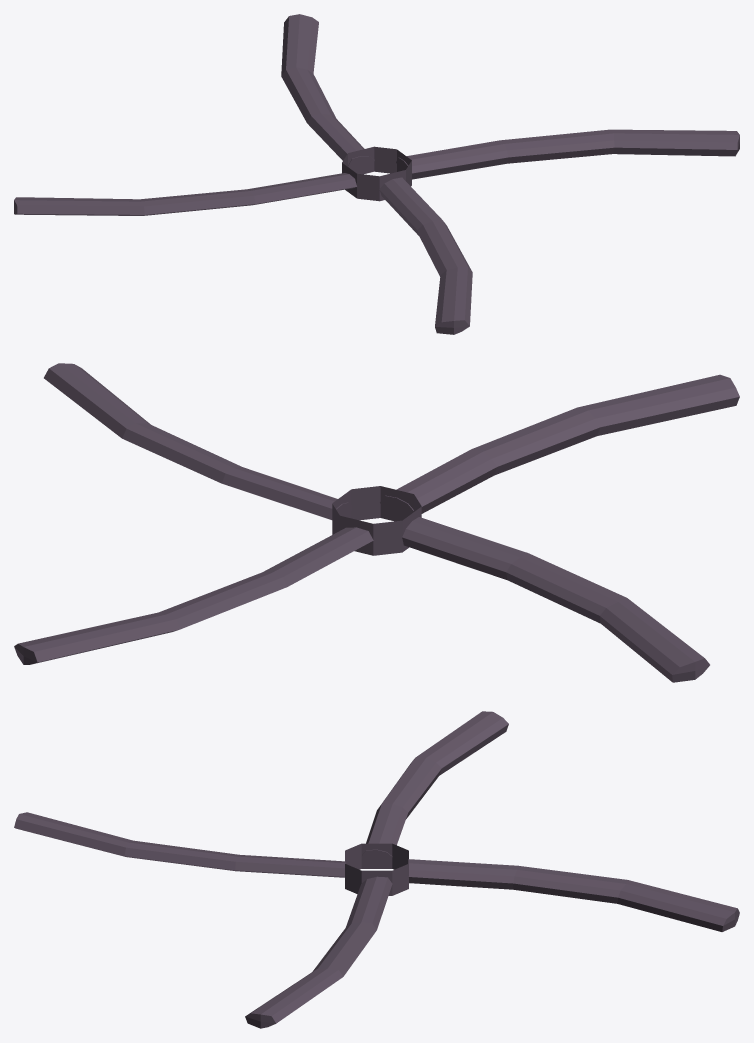
The model's file is Fan.fbx.
3 views of the same model, one above another, from view 1: azimuth 30°, elevation 25°; view 2: azimuth 150°, elevation 25°; view 3: azimuth 270°, elevation 25° (orthographic). The views are drawn at different scales.
Visible parts, largest first — view 1: Fan Blades; view 2: Fan Blades; view 3: Fan Blades.
Boxes of the visible parts, left/top/right/bottom form: Fan Blades: left=14, top=14, right=739, bottom=334; Fan Blades: left=14, top=363, right=739, bottom=682; Fan Blades: left=14, top=711, right=739, bottom=1028.
Size of the model in its own units: 324 by 12.5 by 324.
